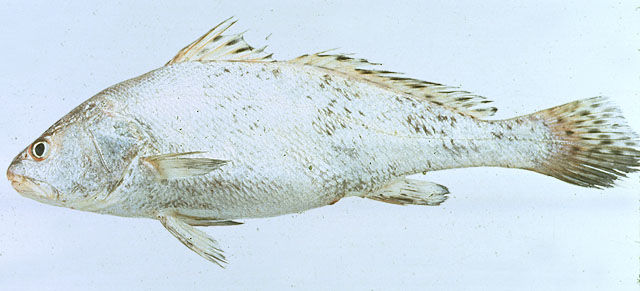fish: (7, 15, 640, 270)
